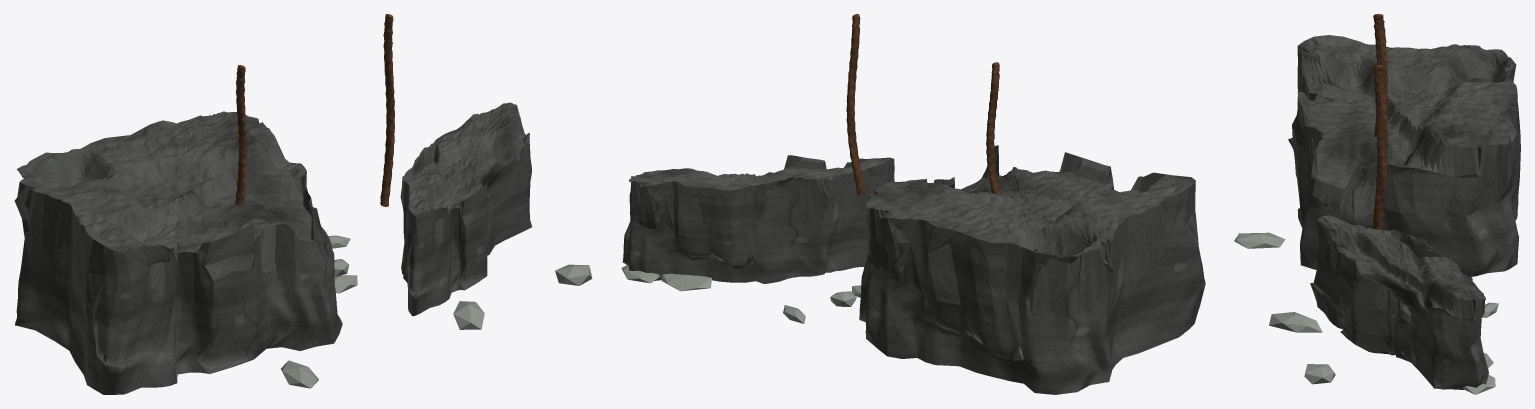
Rendered from lod0_NOT_APPROVED.glb.
The picture shows the model from 3 angles, left to right: view 1: azimuth 30°, elevation 25°; view 2: azimuth 150°, elevation 25°; view 3: azimuth 270°, elevation 25°; orthographic projection. The views are drawn at different scales.
Parts seen in each view (by area): view 1: F3_CONCRETE_BROKEN_INTERIOR_WITH_EMBEDDED_STONES_surface, F3_OLD_CONCRETE_INTACT_AND_FRACTURE_surface, F3_CONCRETE_BROKEN_INTERIOR_WITH_EMBEDDED_STONES.001_surface, F3_OLD_CONCRETE_INTACT_AND_FRACTURE.001_surface, f3_exposed_aggregate_surface, oxidized_reinforcing_steel.001_surface, oxidized_reinforcing_steel_surface; view 2: F3_CONCRETE_BROKEN_INTERIOR_WITH_EMBEDDED_STONES_surface, F3_CONCRETE_BROKEN_INTERIOR_WITH_EMBEDDED_STONES.001_surface, F3_OLD_CONCRETE_INTACT_AND_FRACTURE_surface, F3_OLD_CONCRETE_INTACT_AND_FRACTURE.001_surface, f3_exposed_aggregate_surface, oxidized_reinforcing_steel.001_surface, oxidized_reinforcing_steel_surface; view 3: F3_CONCRETE_BROKEN_INTERIOR_WITH_EMBEDDED_STONES_surface, F3_OLD_CONCRETE_INTACT_AND_FRACTURE_surface, F3_CONCRETE_BROKEN_INTERIOR_WITH_EMBEDDED_STONES.001_surface, F3_OLD_CONCRETE_INTACT_AND_FRACTURE.001_surface, f3_exposed_aggregate_surface, oxidized_reinforcing_steel.001_surface, oxidized_reinforcing_steel_surface.
Boxes of the visible parts, left/top/right/bottom form: F3_CONCRETE_BROKEN_INTERIOR_WITH_EMBEDDED_STONES_surface: left=14, top=111, right=342, bottom=394; F3_OLD_CONCRETE_INTACT_AND_FRACTURE_surface: left=37, top=125, right=323, bottom=381; F3_CONCRETE_BROKEN_INTERIOR_WITH_EMBEDDED_STONES.001_surface: left=400, top=102, right=531, bottom=316; F3_OLD_CONCRETE_INTACT_AND_FRACTURE.001_surface: left=403, top=113, right=529, bottom=298; f3_exposed_aggregate_surface: left=281, top=235, right=592, bottom=388; oxidized_reinforcing_steel.001_surface: left=380, top=14, right=394, bottom=206; oxidized_reinforcing_steel_surface: left=235, top=65, right=247, bottom=205; F3_CONCRETE_BROKEN_INTERIOR_WITH_EMBEDDED_STONES_surface: left=859, top=145, right=1205, bottom=394; F3_CONCRETE_BROKEN_INTERIOR_WITH_EMBEDDED_STONES.001_surface: left=622, top=155, right=894, bottom=283; F3_OLD_CONCRETE_INTACT_AND_FRACTURE_surface: left=891, top=171, right=1193, bottom=257; F3_OLD_CONCRETE_INTACT_AND_FRACTURE.001_surface: left=654, top=159, right=891, bottom=280; f3_exposed_aggregate_surface: left=621, top=265, right=861, bottom=323; oxidized_reinforcing_steel.001_surface: left=846, top=14, right=865, bottom=195; oxidized_reinforcing_steel_surface: left=986, top=62, right=1000, bottom=194; F3_CONCRETE_BROKEN_INTERIOR_WITH_EMBEDDED_STONES_surface: left=1288, top=37, right=1520, bottom=276; F3_OLD_CONCRETE_INTACT_AND_FRACTURE_surface: left=1314, top=35, right=1495, bottom=188; F3_CONCRETE_BROKEN_INTERIOR_WITH_EMBEDDED_STONES.001_surface: left=1310, top=216, right=1488, bottom=389; F3_OLD_CONCRETE_INTACT_AND_FRACTURE.001_surface: left=1323, top=215, right=1468, bottom=380; f3_exposed_aggregate_surface: left=1234, top=232, right=1498, bottom=394; oxidized_reinforcing_steel.001_surface: left=1372, top=65, right=1387, bottom=229; oxidized_reinforcing_steel_surface: left=1373, top=14, right=1387, bottom=136.
Bounding box in the file's own units: 2.2 × 1.13 × 1.17.
Materials: 7 (7 with a texture image).
